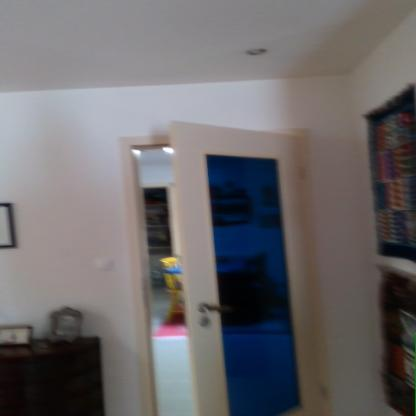semi: (110, 123, 313, 416)
